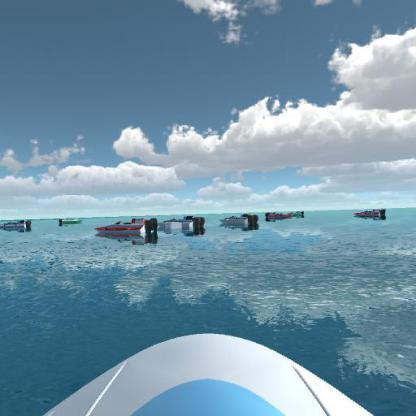usv0: (56, 214, 87, 227), (288, 208, 308, 219)
usv1: (162, 212, 208, 237), (218, 211, 260, 233), (2, 216, 33, 235)
usv3: (93, 214, 161, 240), (350, 205, 392, 224), (264, 209, 293, 224)
